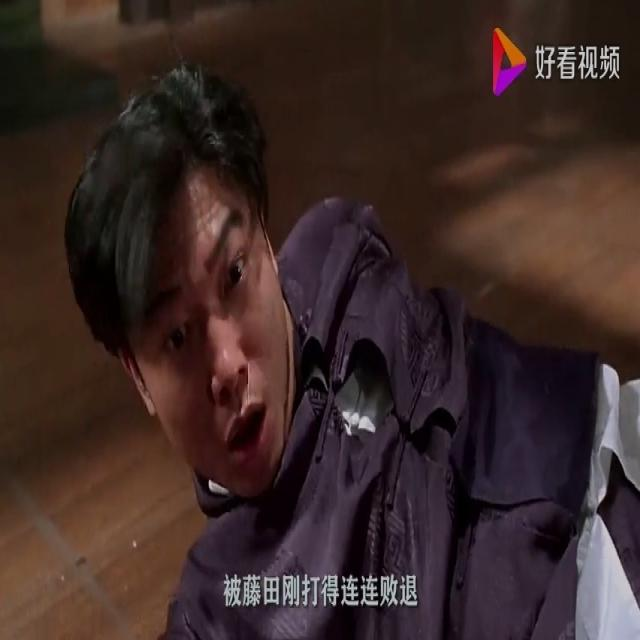non-fight: (37, 40, 639, 639)
